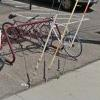Bicycle: (4, 8, 81, 62)
